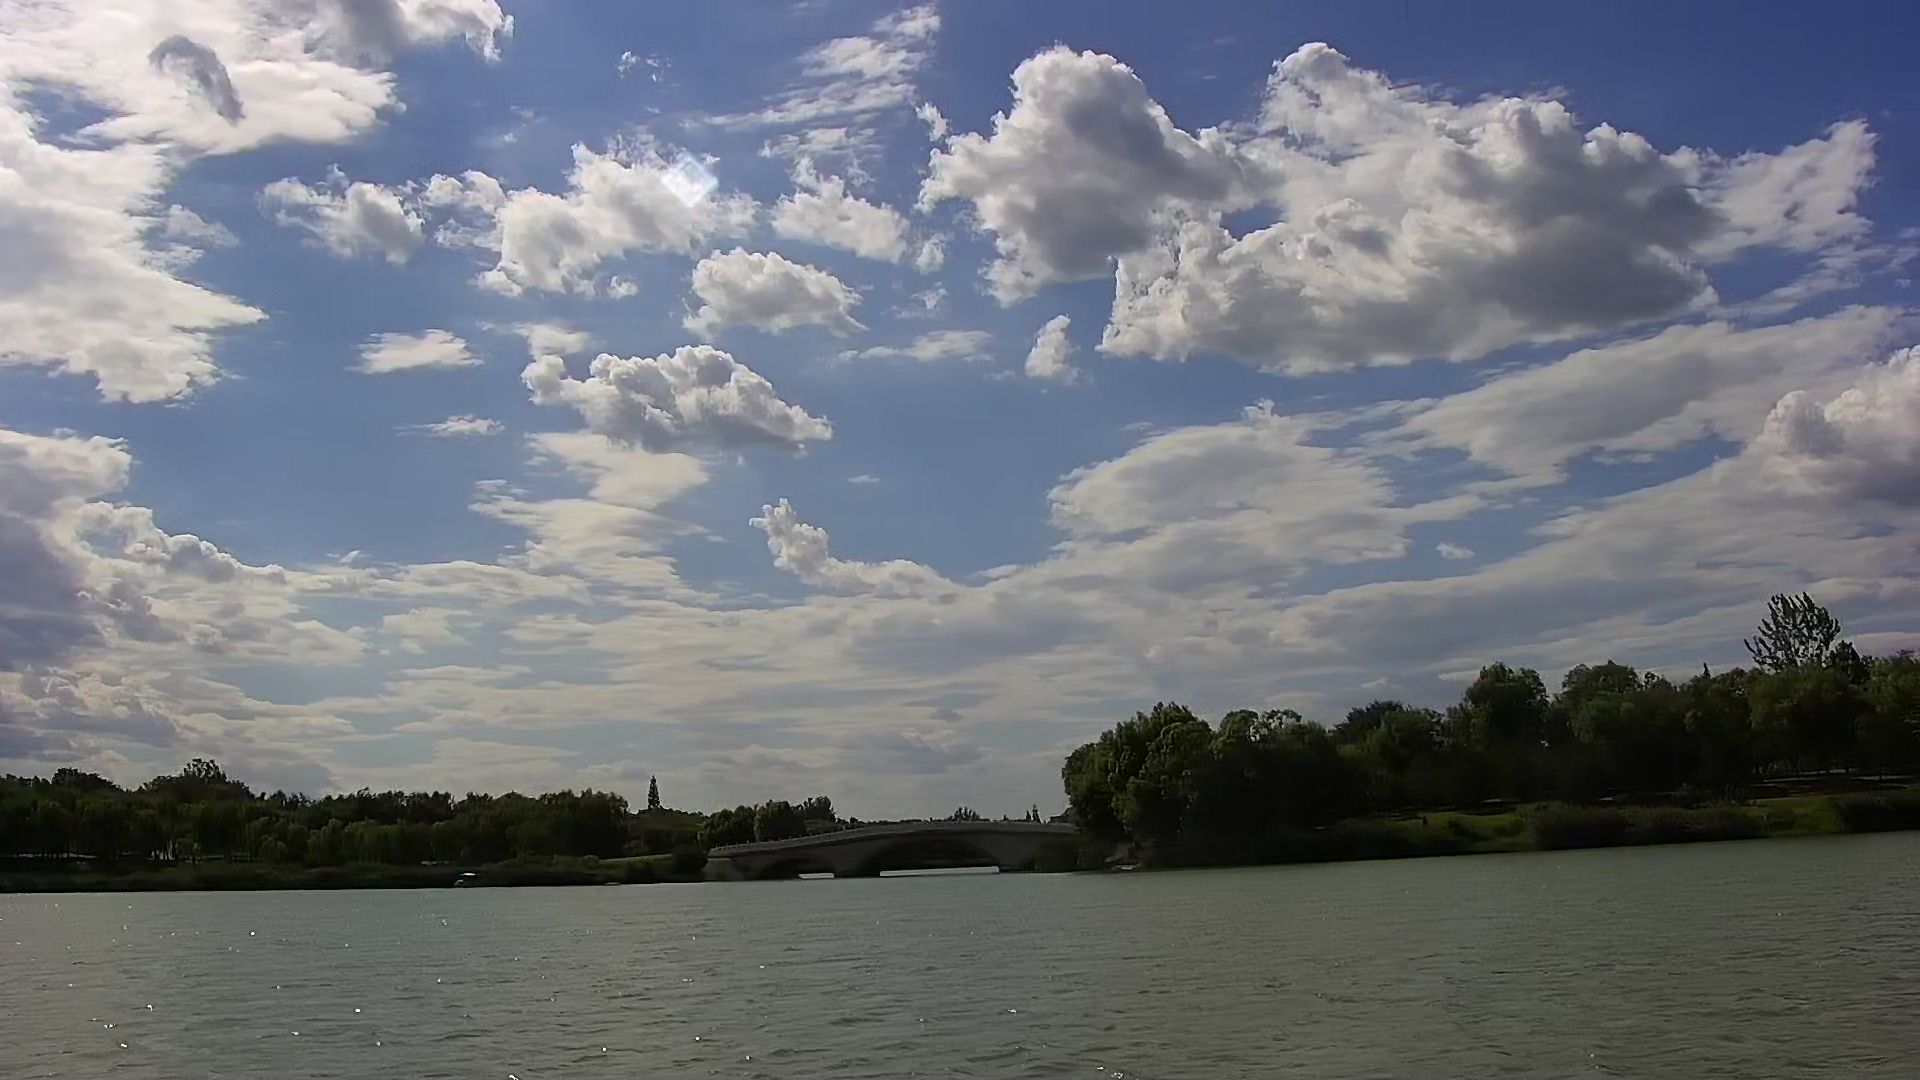bridge: (736, 819, 1077, 874)
